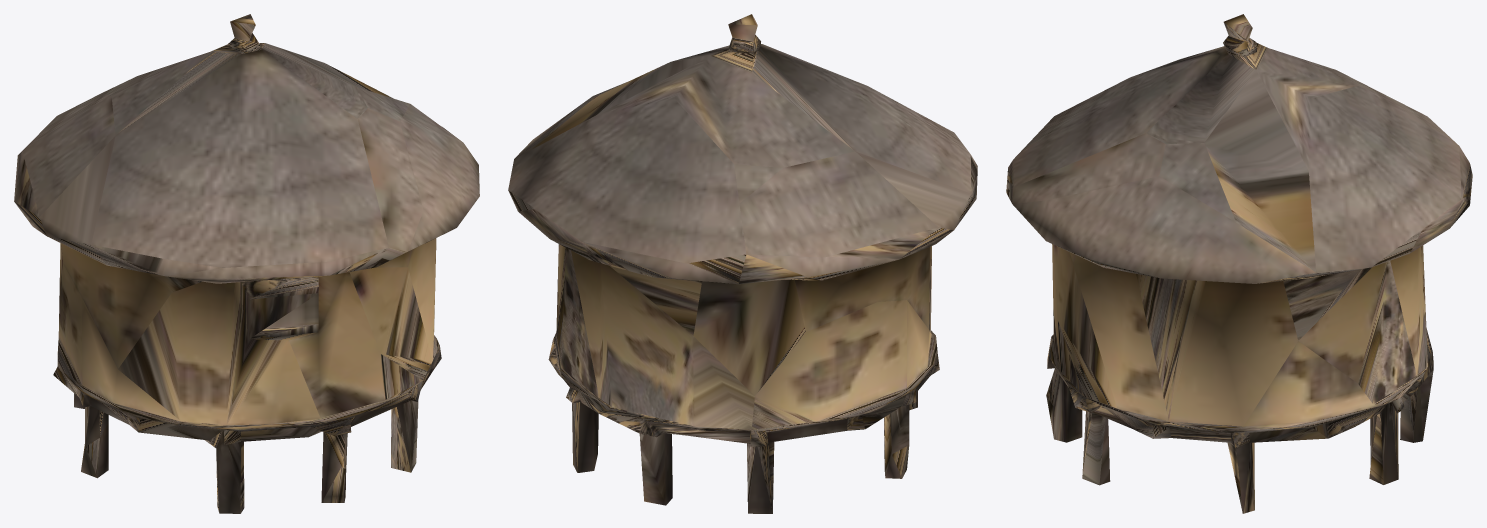
The model's file is granary_a_lod2.glb.
3 views of the same model, side by side, from view 1: azimuth 30°, elevation 25°; view 2: azimuth 150°, elevation 25°; view 3: azimuth 270°, elevation 25° (orthographic).
Visible parts, largest first — view 1: node_0; view 2: node_0; view 3: node_0.
Boxes of the visible parts, x1,y1,x2,y2 form: node_0: (14,14,479,513); node_0: (508,14,977,513); node_0: (1006,14,1472,513).
Bounding box in the file's own units: 4.09 × 3.99 × 4.05.
1 material, 1 textured.
